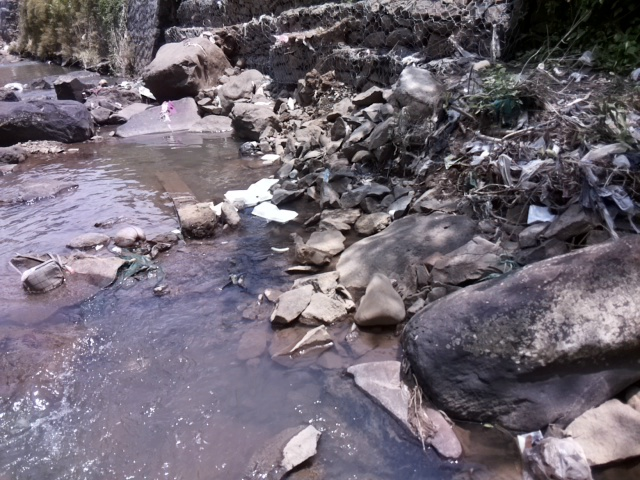Sampah_Plastik: (159, 99, 176, 126), (240, 140, 259, 156)
Sampah_Styrofoam: (224, 178, 276, 205), (253, 200, 301, 222)
